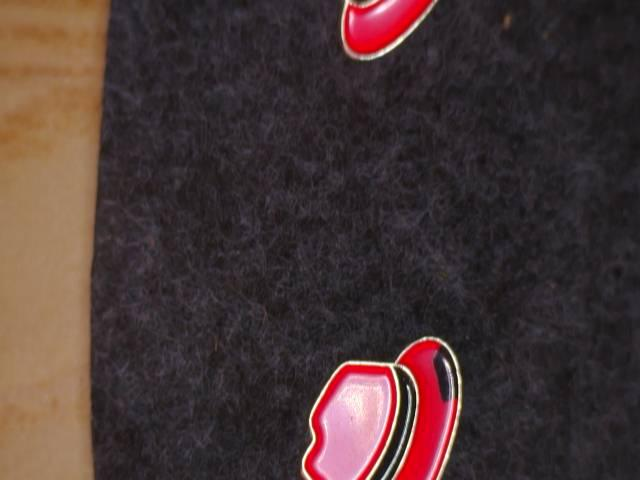Red-Hat: (262, 314, 517, 480), (322, 0, 470, 71)
Scratch: (424, 339, 484, 415)
